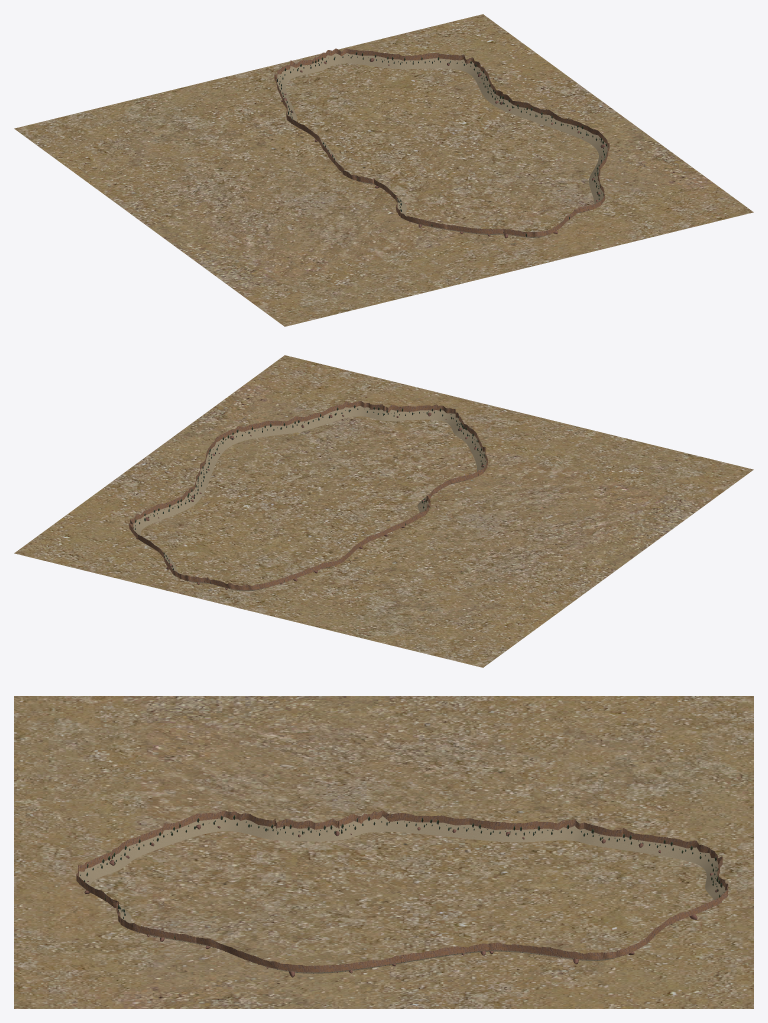
3 views of the same model, one above another, from view 1: azimuth 30°, elevation 25°; view 2: azimuth 150°, elevation 25°; view 3: azimuth 270°, elevation 25° (orthographic). The views are drawn at different scales.
Parts seen in each view (by area): view 1: Plane, Wall_08, Wall_00, Wall_09, Wall_07, Wall_03, Wall_01; view 2: Plane, Wall_02, Wall_01, Wall_03, Wall_09, Wall_00, Wall_07; view 3: Plane, Wall_04, Wall_05, Wall_06, Wall_07, Wall_03, Wall_09, Wall_00, Wall_01, Wall_02, Wall_08.
Boxes of the visible parts, x1,y1,x2,y2 form: Plane: (14,14,753,326); Wall_08: (319,48,438,69); Wall_00: (496,94,587,138); Wall_09: (438,53,503,106); Wall_07: (274,56,326,108); Wall_03: (447,221,563,237); Wall_01: (581,126,609,185); Plane: (14,355,753,667); Wall_02: (307,401,416,428); Wall_01: (211,416,311,454); Wall_03: (416,404,482,456); Wall_09: (129,491,196,538); Wall_00: (188,444,220,502); Wall_07: (201,567,309,591); Plane: (14,696,753,1008); Wall_04: (162,810,315,844); Wall_05: (315,810,469,841); Wall_06: (466,818,621,849); Wall_07: (617,828,722,893); Wall_03: (76,828,170,894); Wall_09: (487,938,645,960); Wall_00: (339,943,488,972); Wall_01: (196,937,340,973); Wall_02: (95,889,198,944); Wall_08: (646,879,728,943).
Bounding box in the file's own units: 1400 × 35.99 × 1400.
